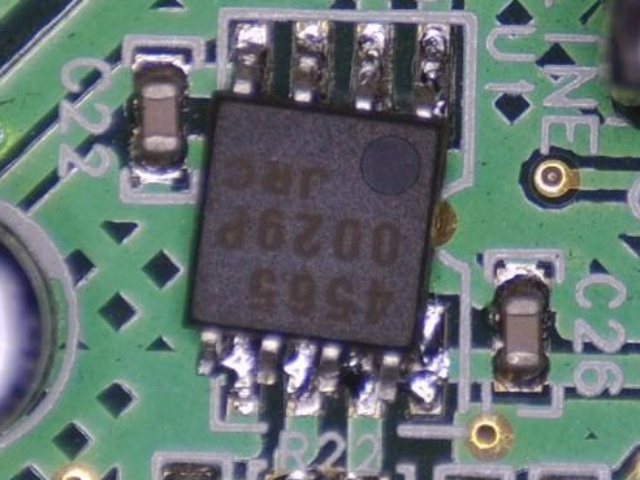pcb_defect: (183, 17, 451, 418), (196, 303, 447, 416)
